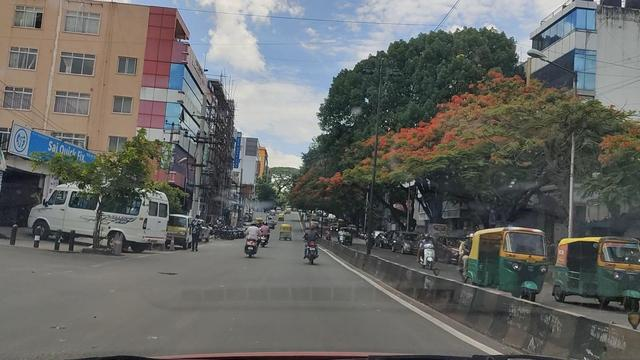LMV: (243, 213, 263, 255), (304, 223, 321, 266)
RoadDamages: (45, 319, 75, 338)
